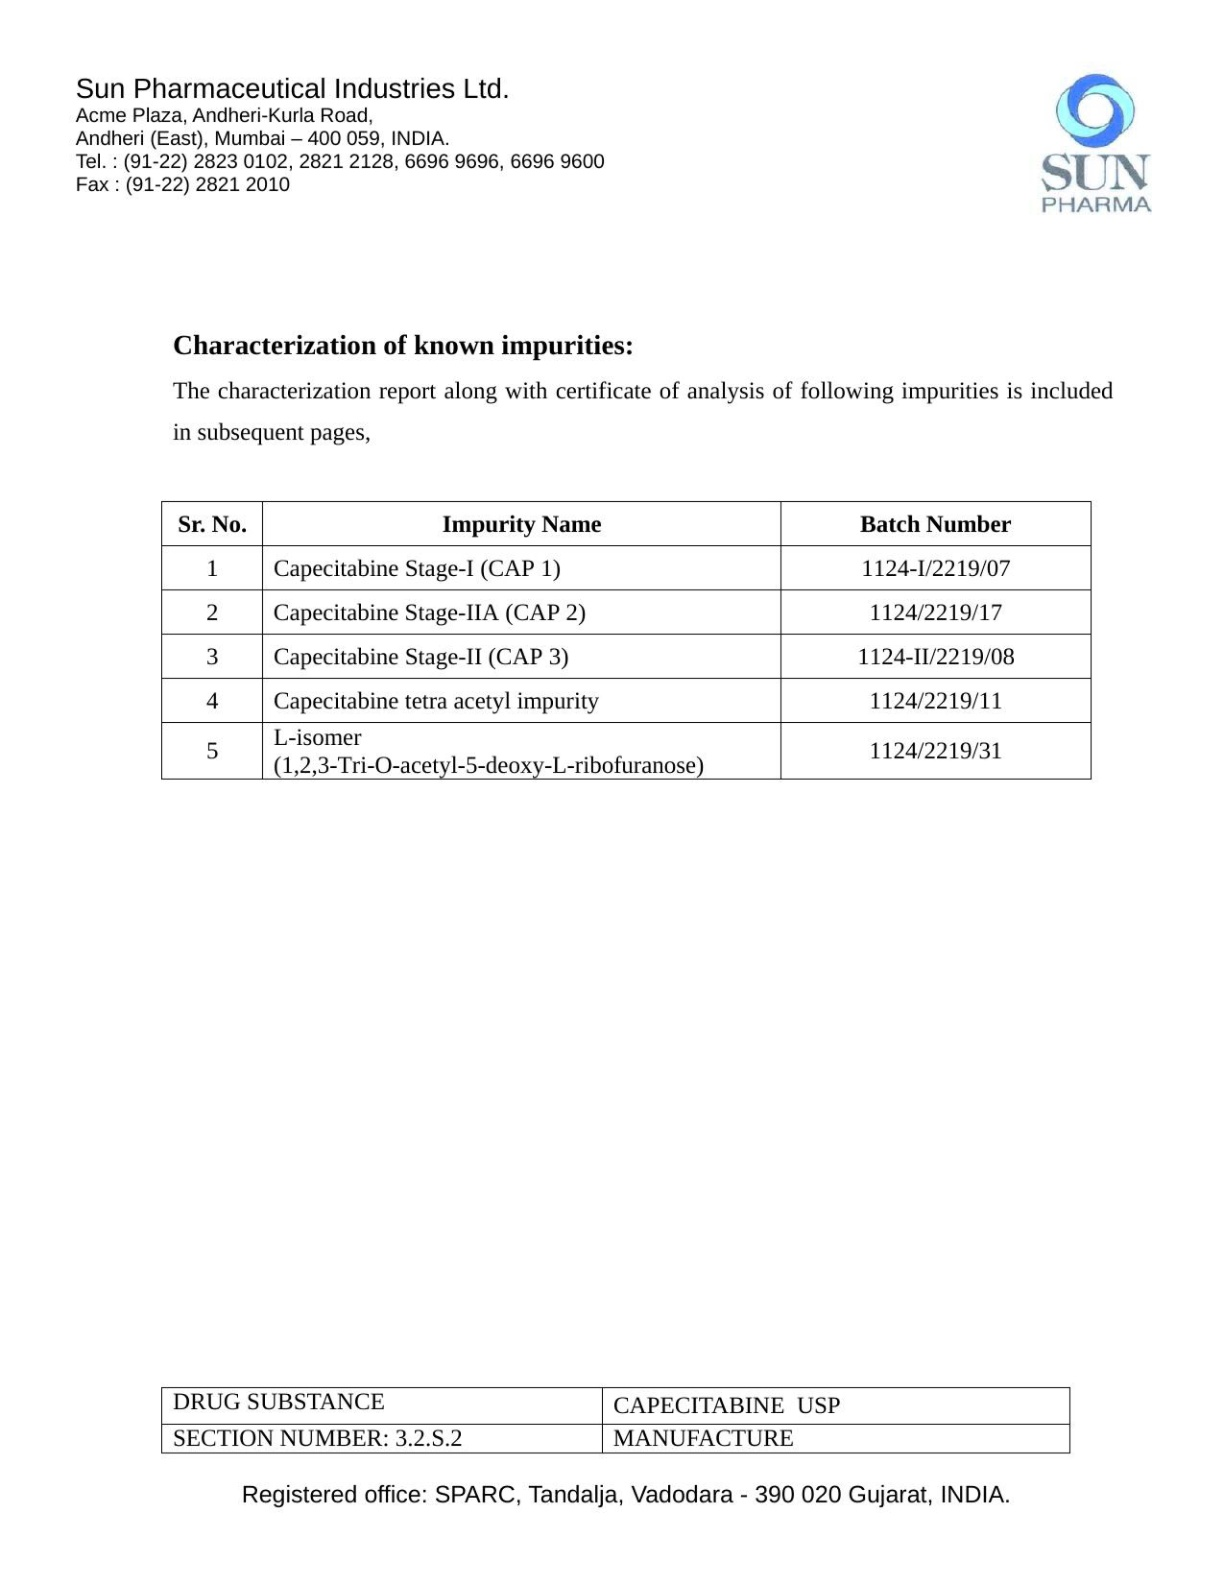full_lined: (159, 500, 1092, 780), (159, 1384, 1071, 1454)
